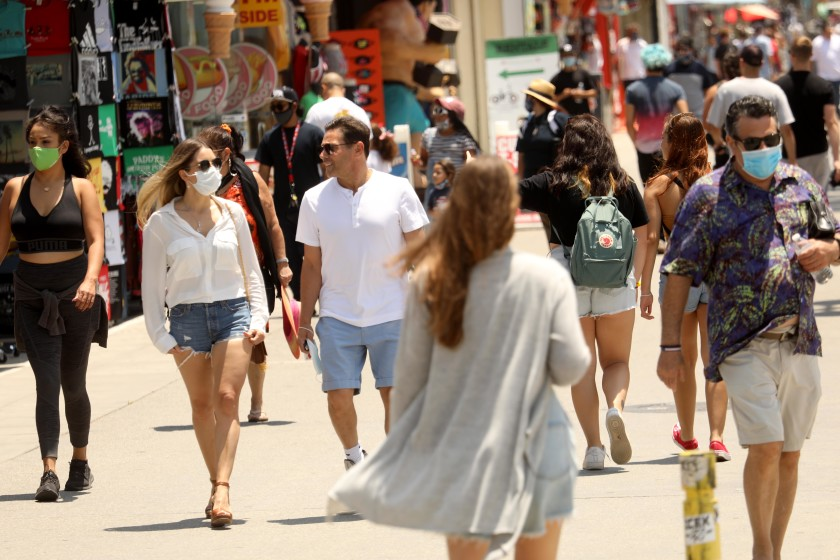with_incorrect_mask: (430, 161, 449, 192), (432, 106, 450, 132)
with_mask: (188, 146, 224, 196), (27, 126, 62, 172), (269, 95, 295, 124)
without_mask: (317, 129, 356, 175)
